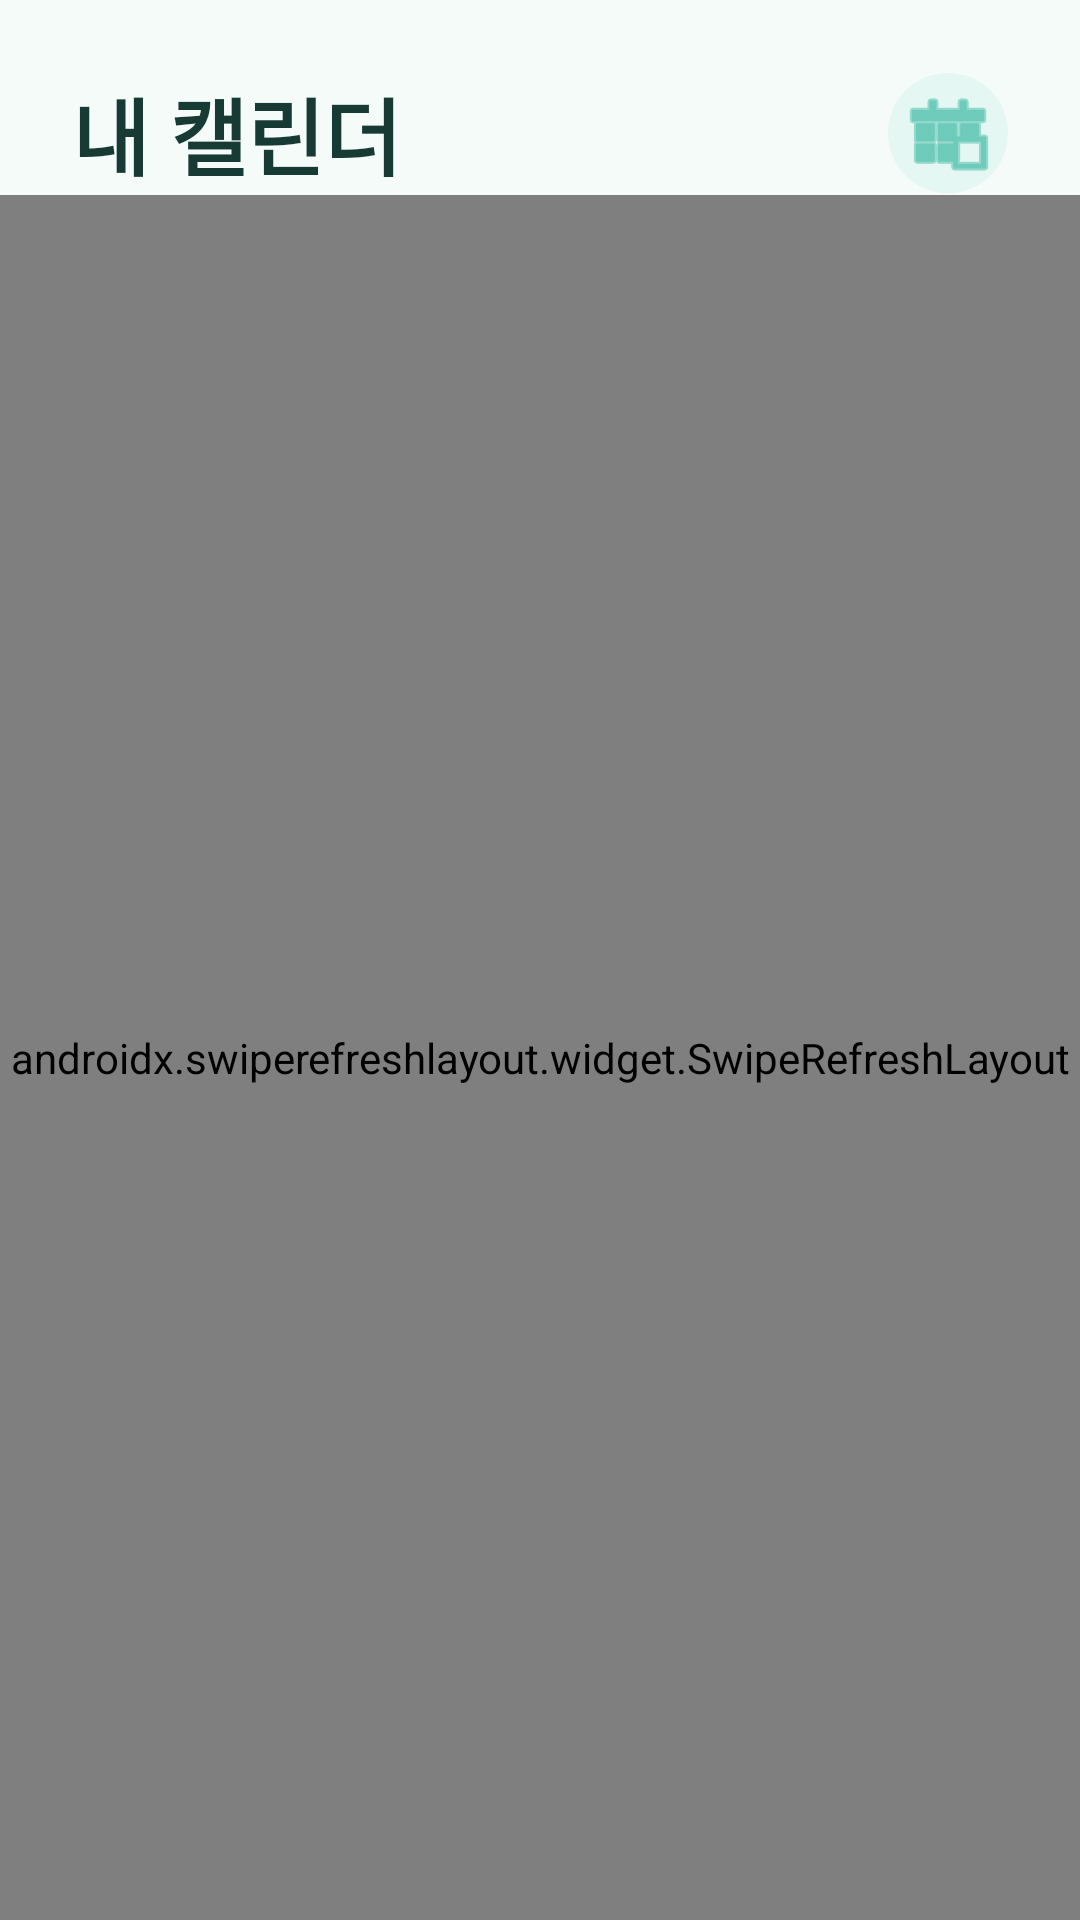

Icons on this 1080 x 1920 Android screen, each with its box as (x1, y1, x2, y2):
캘린더 앱 열기: (909, 98, 989, 171)
